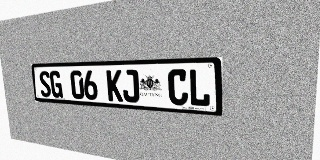0: (70, 70, 84, 99)
6: (83, 70, 98, 100)
C: (168, 69, 188, 106)
G: (49, 71, 63, 98)
J: (122, 70, 139, 103)
K: (106, 70, 123, 102)
L: (188, 69, 210, 107)
S: (38, 71, 52, 97)
